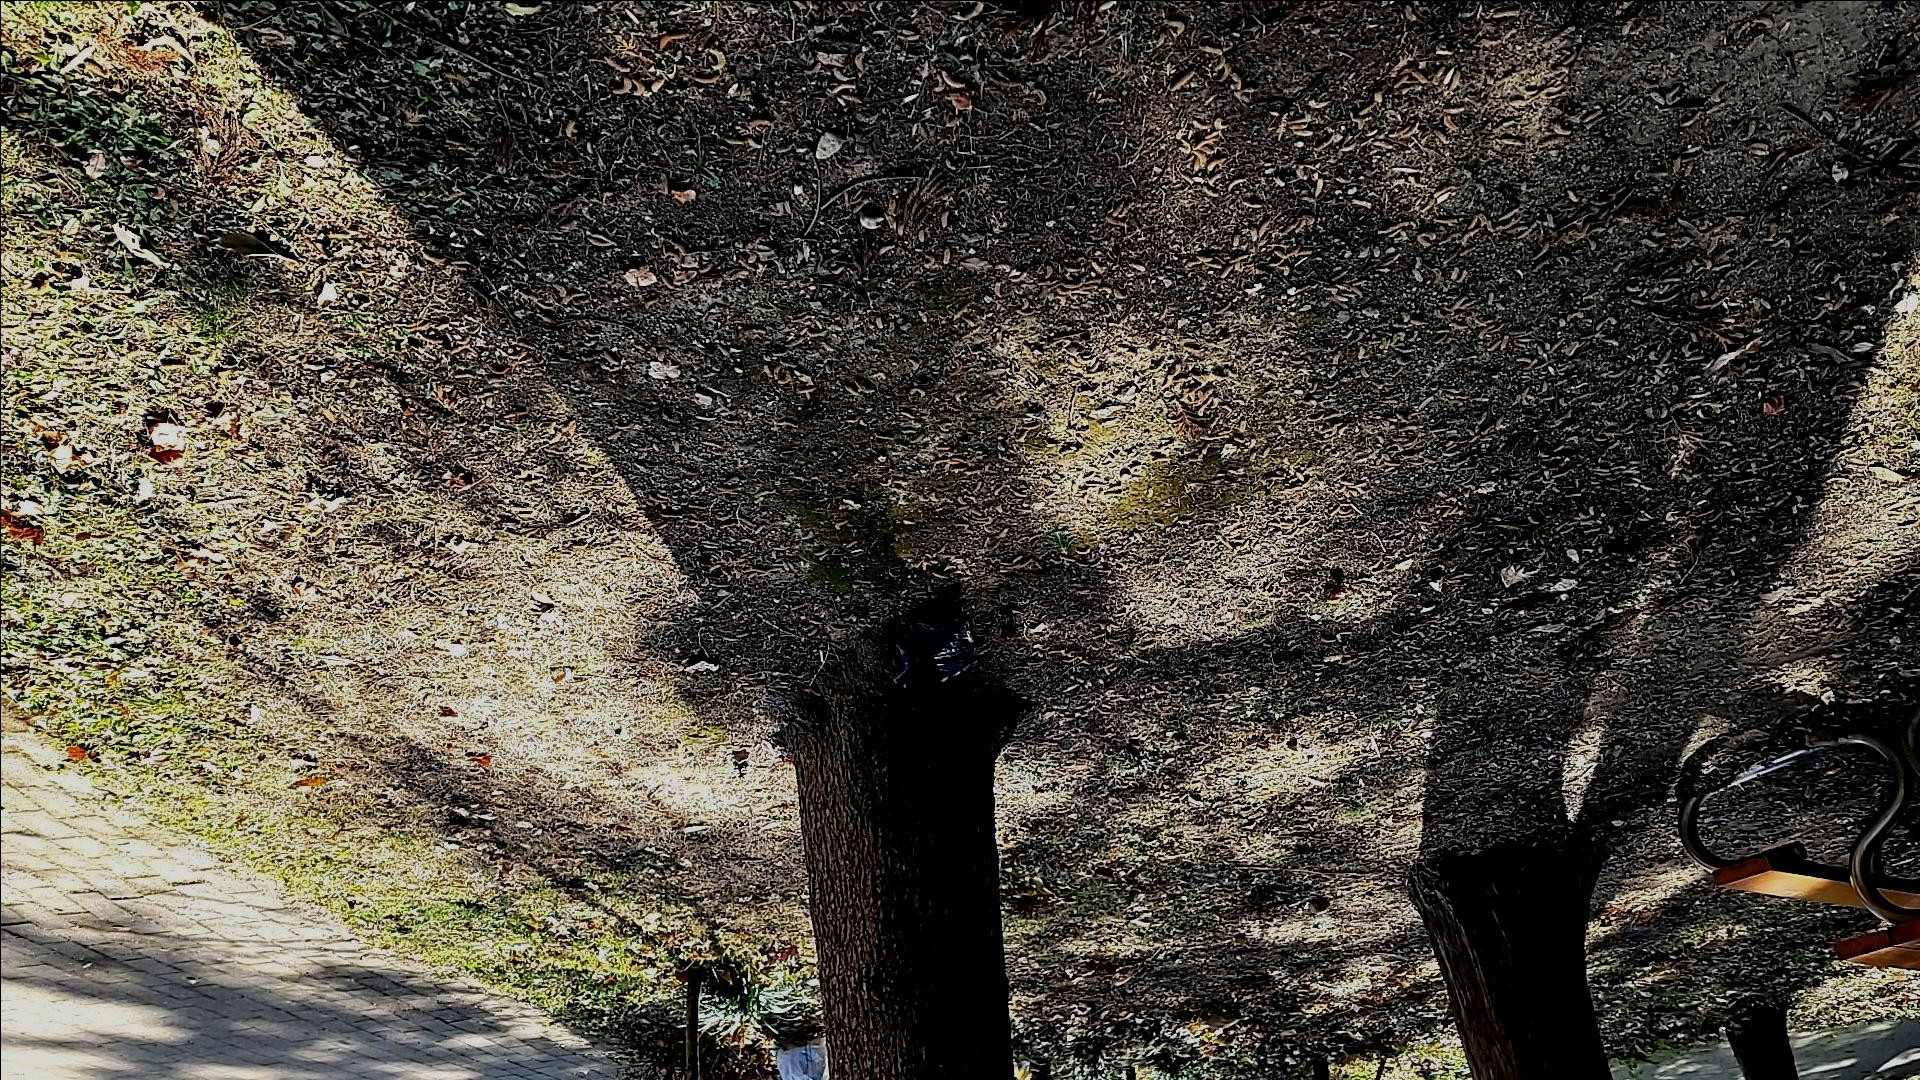black_bag: (866, 589, 984, 711)
white_bag: (766, 1034, 835, 1080)
